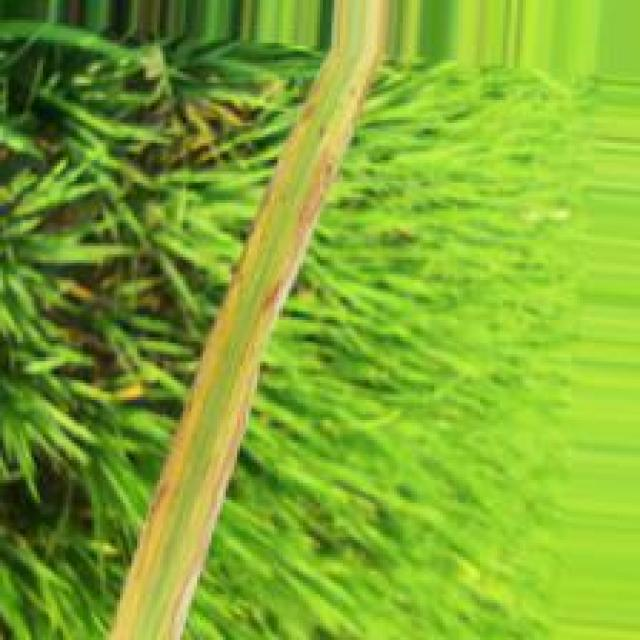Narrow_Brown_Leaf_Spot: (106, 115, 308, 640), (163, 143, 345, 638)
